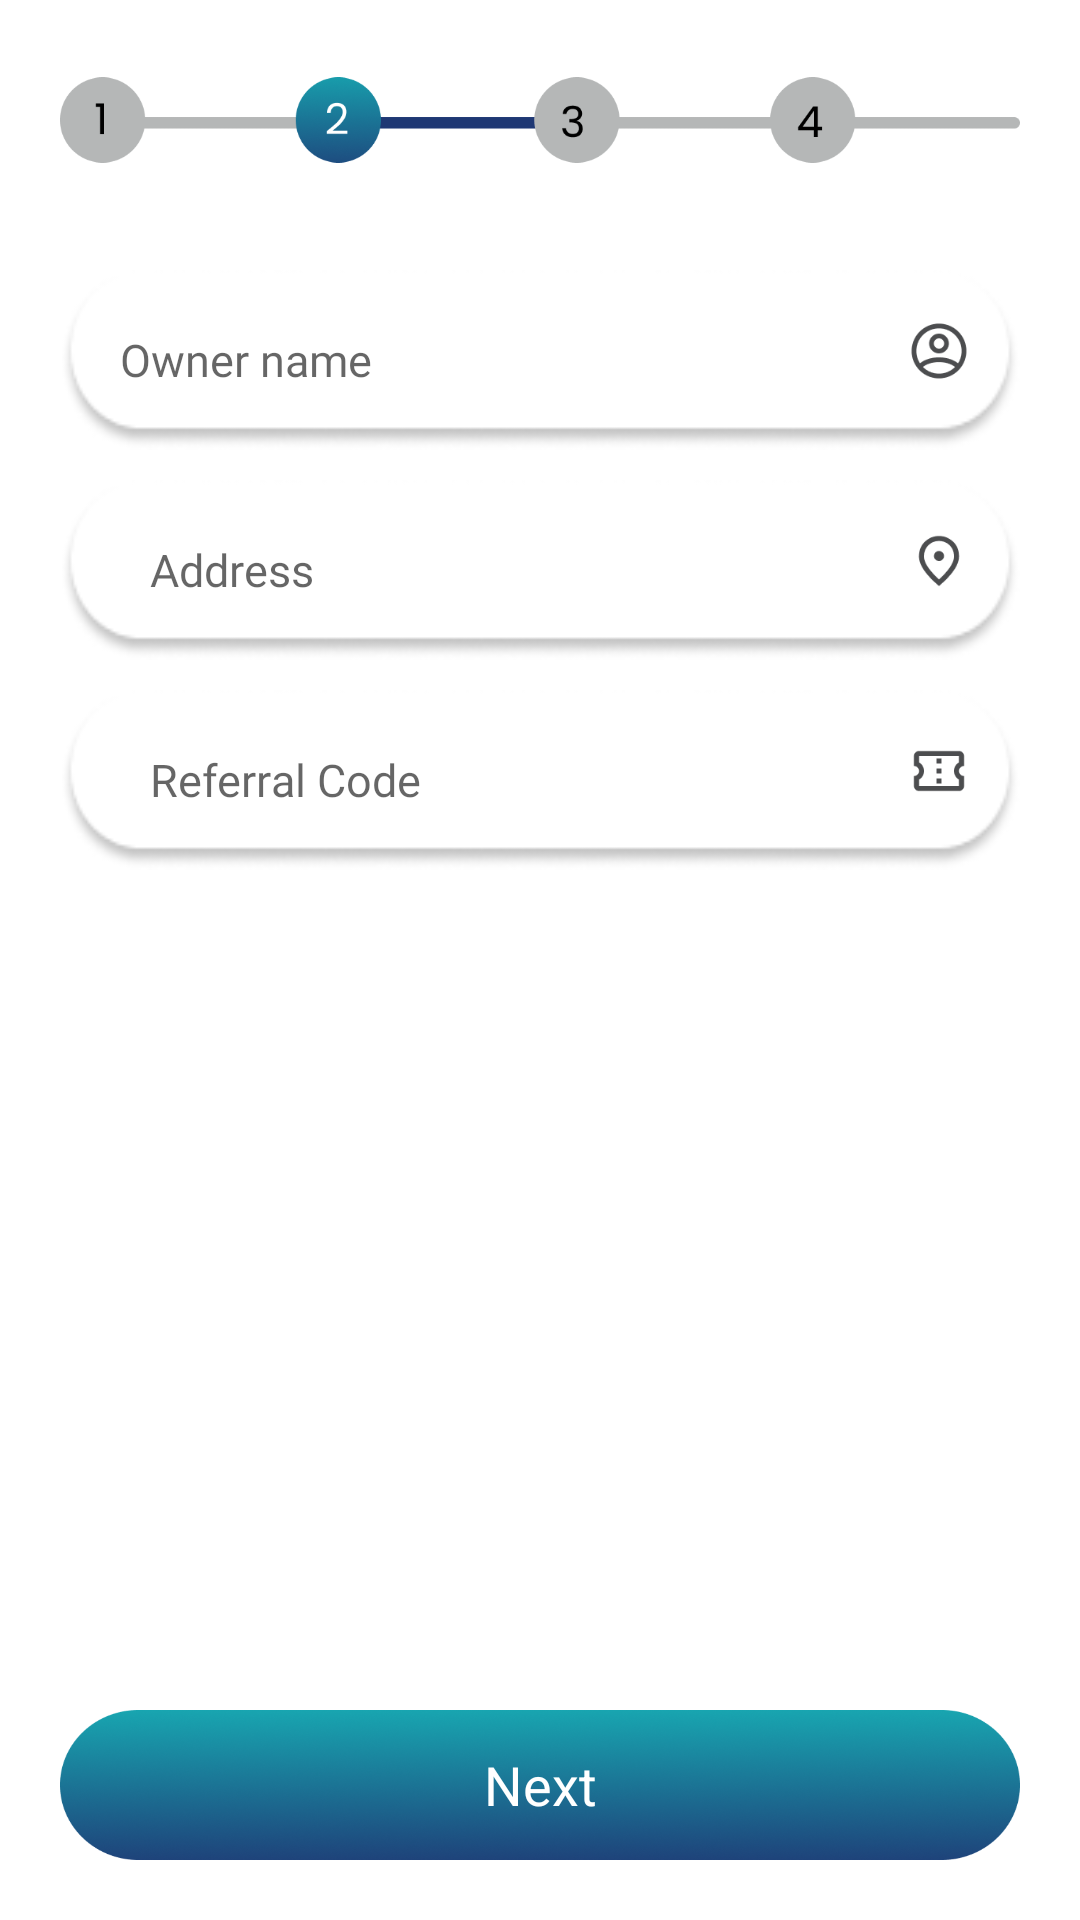

Icon bounding boxes for this 1080px x 1920px phone screenshot, format box=[x1, y1, x2, y2]:
person: box=[911, 323, 967, 379]
refral code: box=[913, 751, 965, 791]
